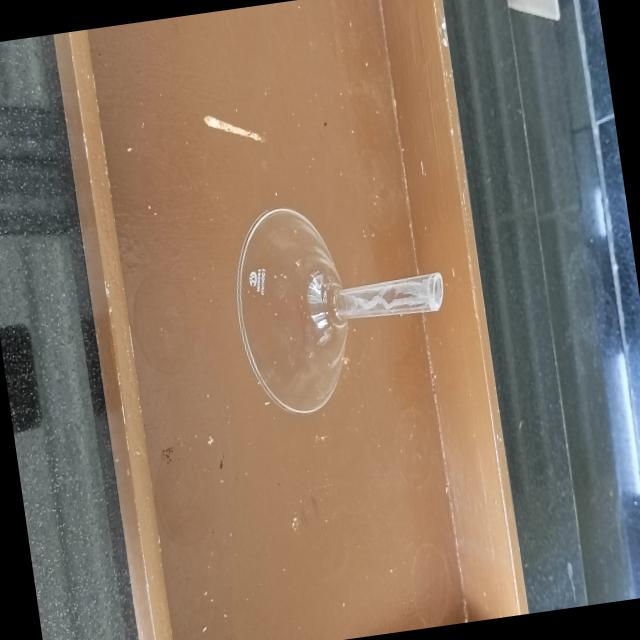funnel: (218, 166, 460, 434)
